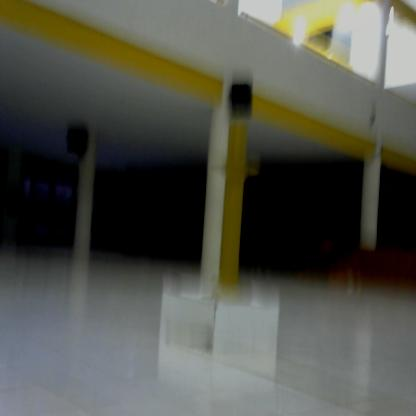pole: (209, 124, 263, 306)
